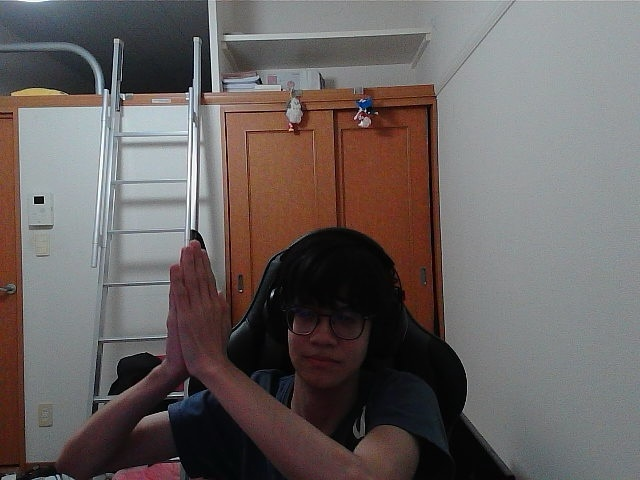pray: (176, 244, 226, 354)
